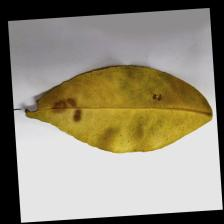canker: (21, 88, 171, 128)
